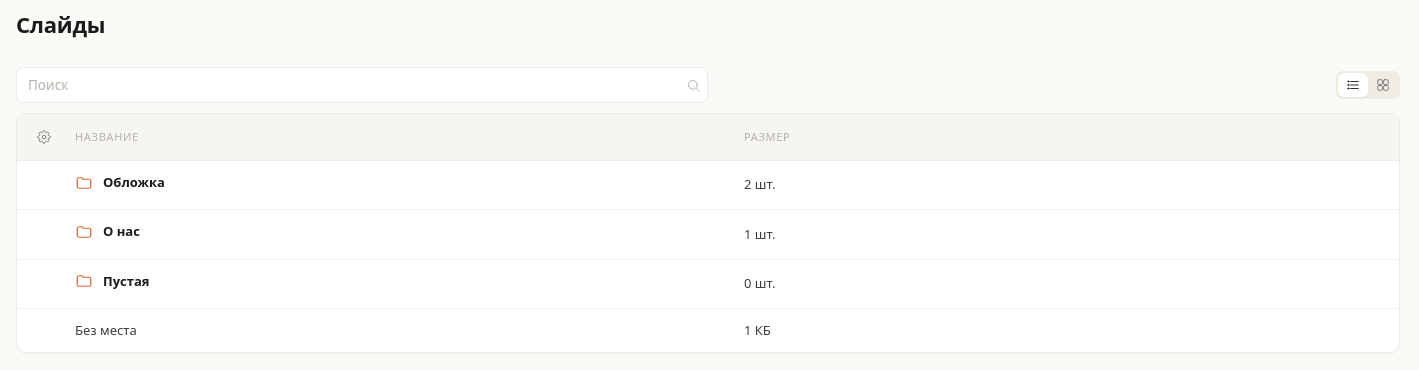
ListPage с папками › в карточках — плитки-папки, клик открывает
Click the button titled "Карточки" at (1383, 85), box [1368,73,1398,97]
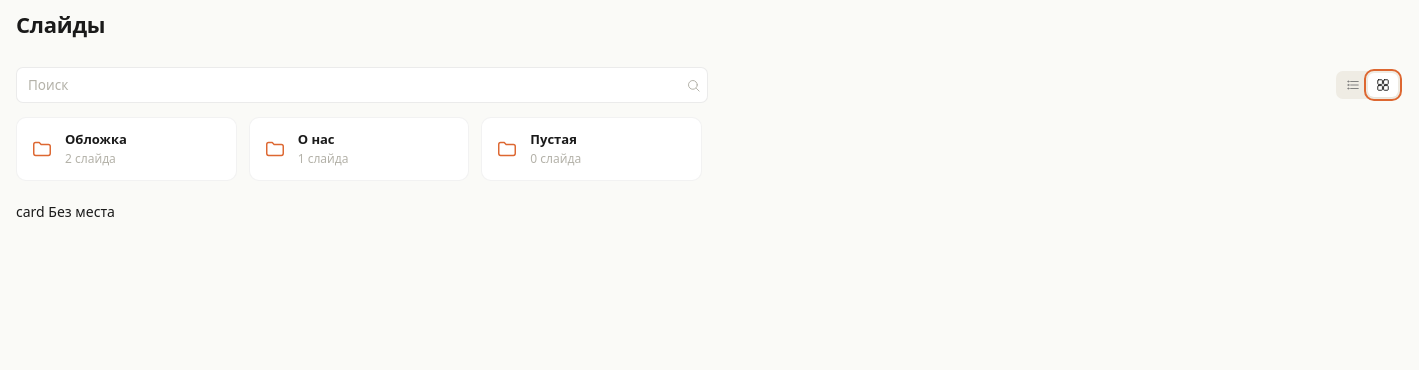
Check: the text "card Обложка А" is not shown
Check: the text "2 слайда" is shown, box [65,150,116,166]
Click the button with aria-label "Открыть папку «Обложка»" at (126, 149), box [16,117,237,180]
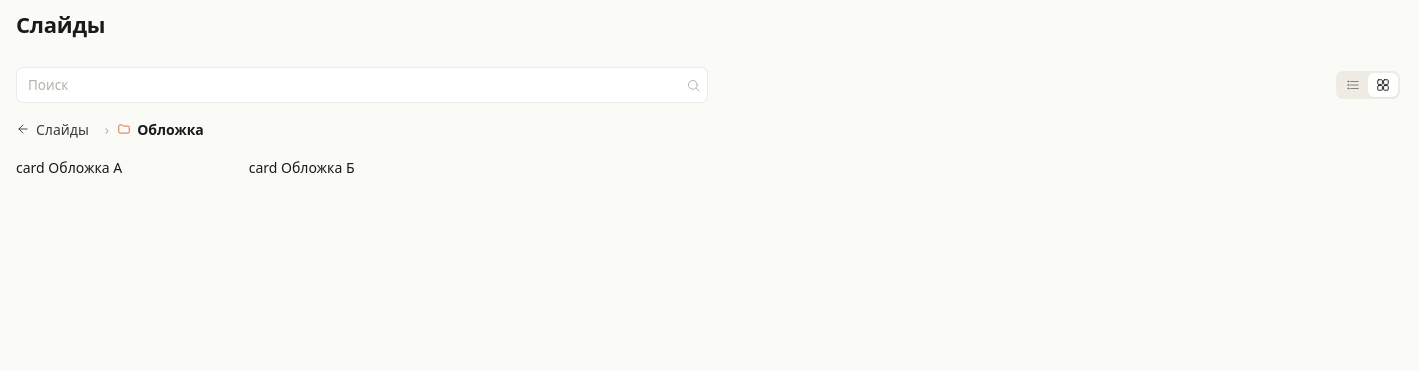
Check: the text "card Обложка А" is shown, box [16,158,122,177]
